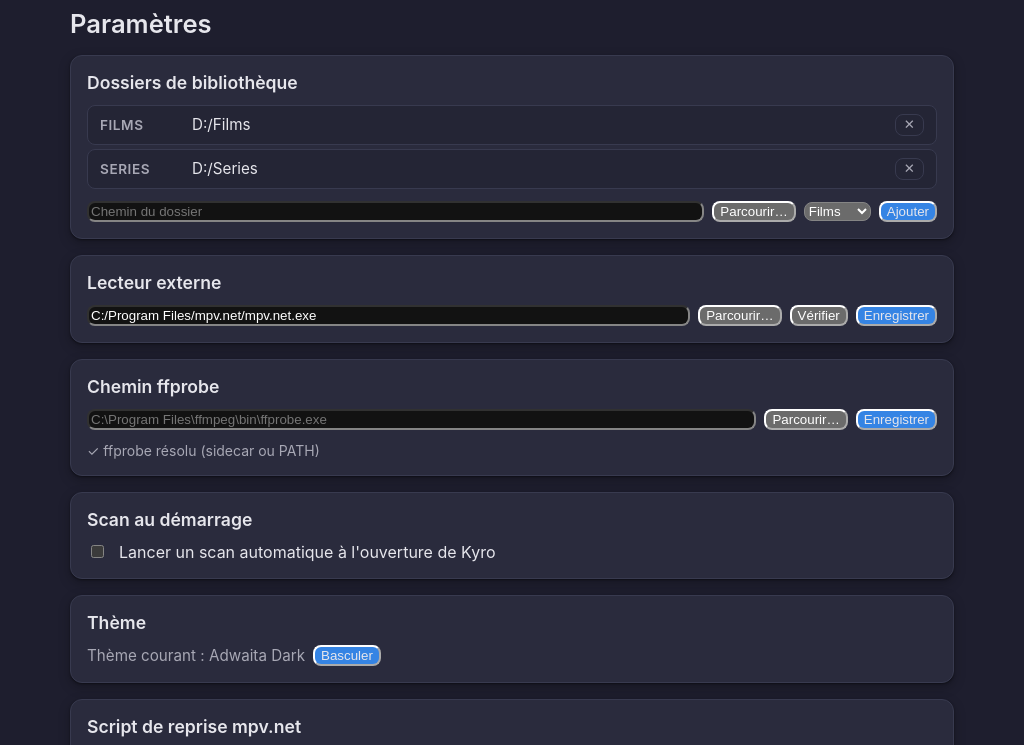
it: /settings — section Lecteur externe › affiche le message d'erreur quand le backend rejette (req. 10.4)
The image size is (1024, 745).
Click the button with test id "verify-external-player" at x=819, y=316, box [790,305,848,326]
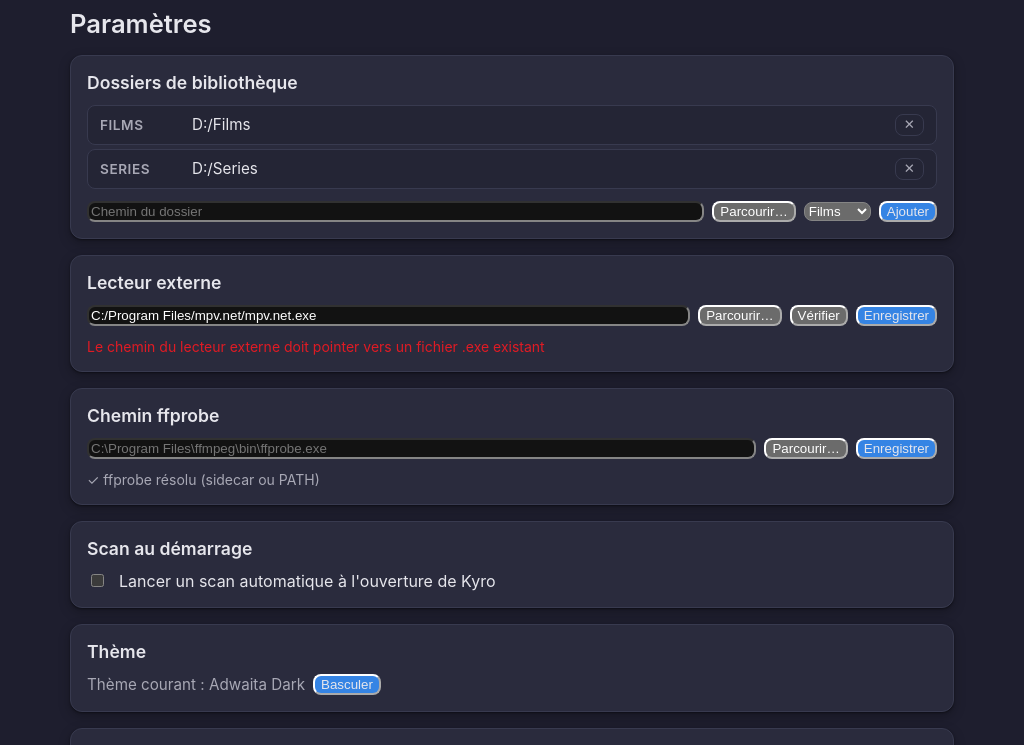
expect the message with test id "external-player-status" shows ".exe existant": met, box [87,338,545,355]
